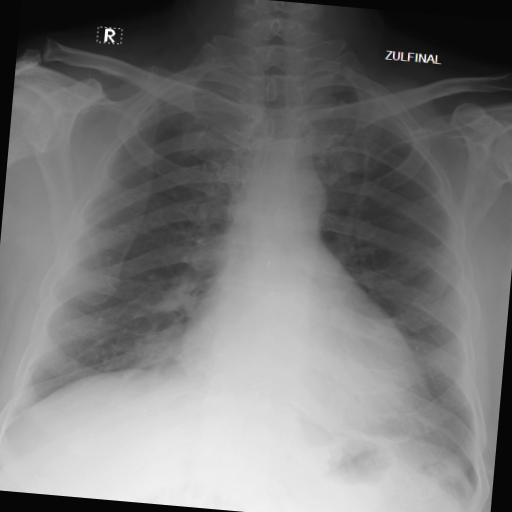kardiomegali: (0, 29, 512, 497)
